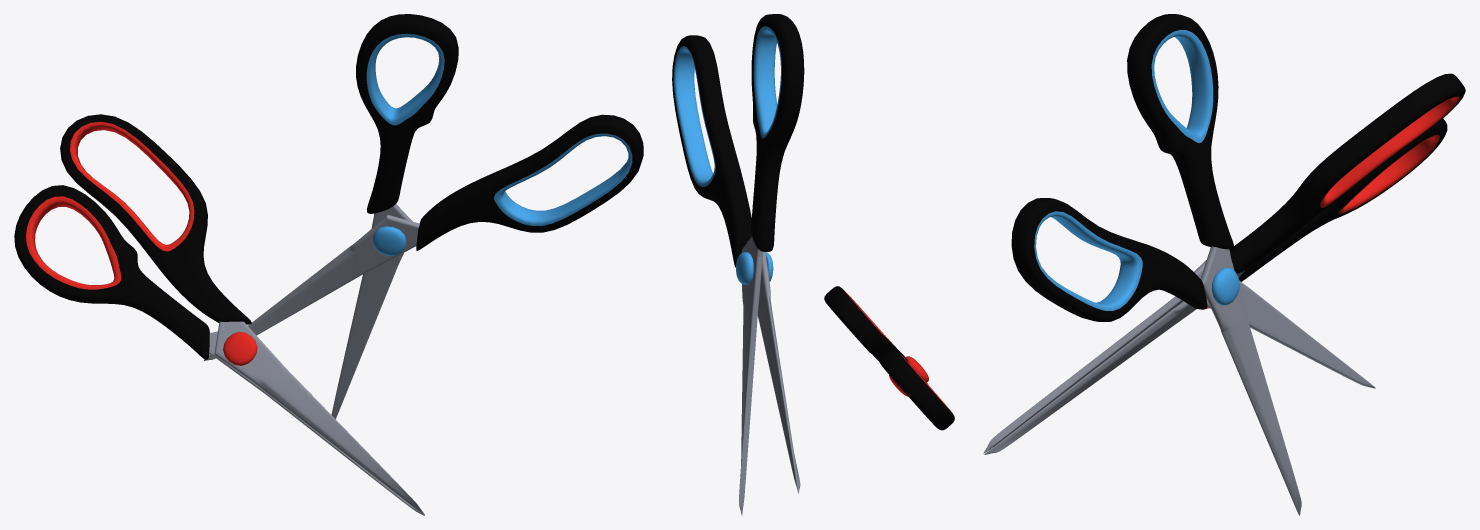
Rendered from scissors.fbx.
The picture shows the model from 3 angles, left to right: view 1: azimuth 30°, elevation 25°; view 2: azimuth 150°, elevation 25°; view 3: azimuth 270°, elevation 25°; orthographic projection. The views are drawn at different scales.
Visible parts, largest first — view 1: Cube.005, Cube, Cube.001, Cube.006, Cube.002, Cube.007, Cube.008, Cube.003, Cube.004, Cube.009; view 2: Cube.005, Cube.006, Cube.008, Cube.007, Cube.001, Cube, Cube.009; view 3: Cube.006, Cube, Cube.005, Cube.008, Cube.001, Cube.007, Cube.003, Cube.002, Cube.009.
Boxes of the visible parts, bbox=[...] form: Cube.005: bbox=[416, 114, 643, 250]; Cube: bbox=[60, 114, 251, 324]; Cube.001: bbox=[14, 185, 209, 359]; Cube.006: bbox=[356, 14, 458, 213]; Cube.002: bbox=[214, 321, 424, 514]; Cube.007: bbox=[203, 215, 419, 360]; Cube.008: bbox=[331, 204, 412, 418]; Cube.003: bbox=[209, 331, 424, 515]; Cube.004: bbox=[223, 332, 257, 365]; Cube.009: bbox=[373, 226, 406, 255]; Cube.005: bbox=[672, 35, 751, 267]; Cube.006: bbox=[751, 14, 804, 251]; Cube.008: bbox=[739, 236, 763, 515]; Cube.007: bbox=[747, 241, 800, 493]; Cube.001: bbox=[879, 348, 954, 430]; Cube: bbox=[824, 286, 908, 362]; Cube.009: bbox=[736, 252, 773, 284]; Cube.006: bbox=[1127, 14, 1233, 249]; Cube: bbox=[1229, 73, 1465, 273]; Cube.005: bbox=[1011, 198, 1207, 321]; Cube.008: bbox=[1200, 246, 1301, 515]; Cube.001: bbox=[1238, 118, 1447, 281]; Cube.007: bbox=[1194, 260, 1375, 388]; Cube.003: bbox=[984, 270, 1244, 454]; Cube.002: bbox=[983, 296, 1182, 453]; Cube.009: bbox=[1211, 267, 1239, 305].
Size of the model in its own units: 792 by 764 by 656.
